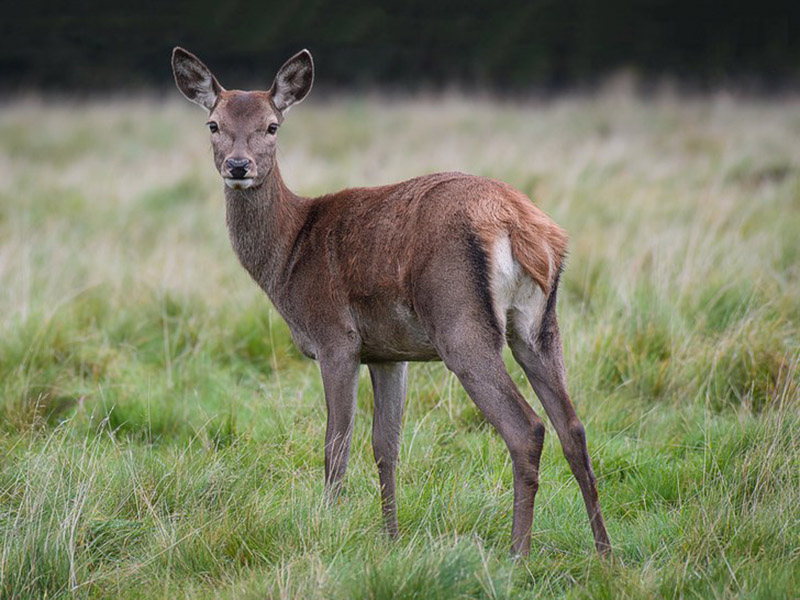cervo: (161, 35, 612, 559)
